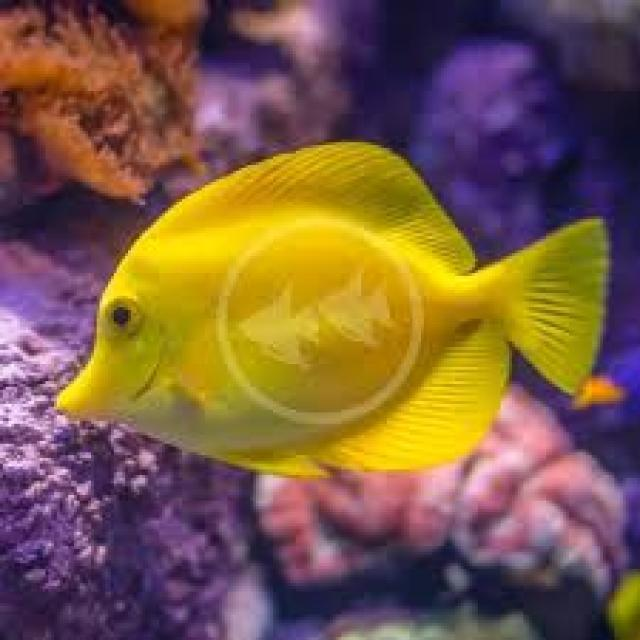TangFish: (55, 139, 608, 478)
